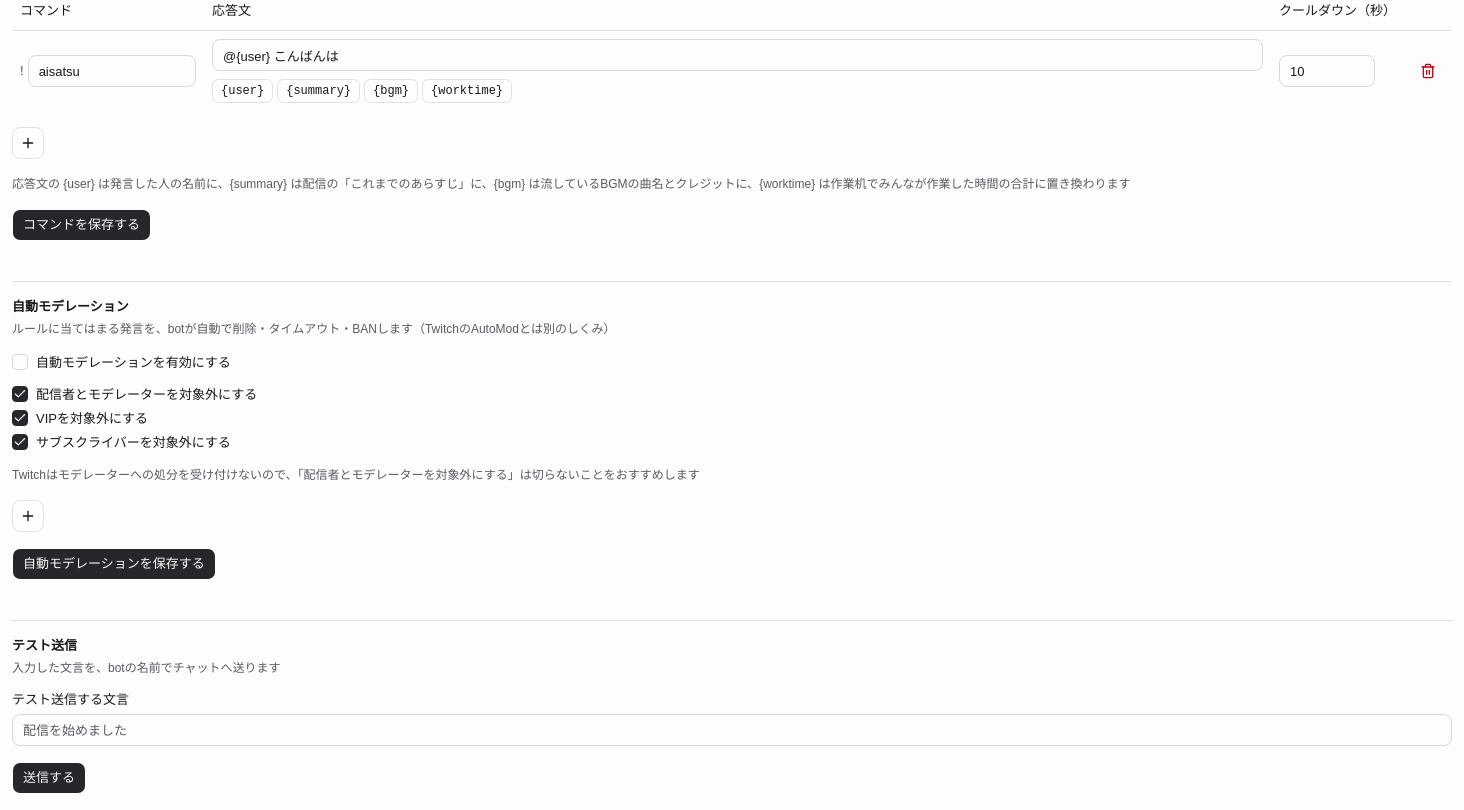
Test: テスト送信 › 本文が空なら、Workerへ送らずに入力を促す
The image size is (1464, 810).
(page scrolled)
Click the button "送信する" at [49, 778], box [12,762,86,794]
(page scrolled)
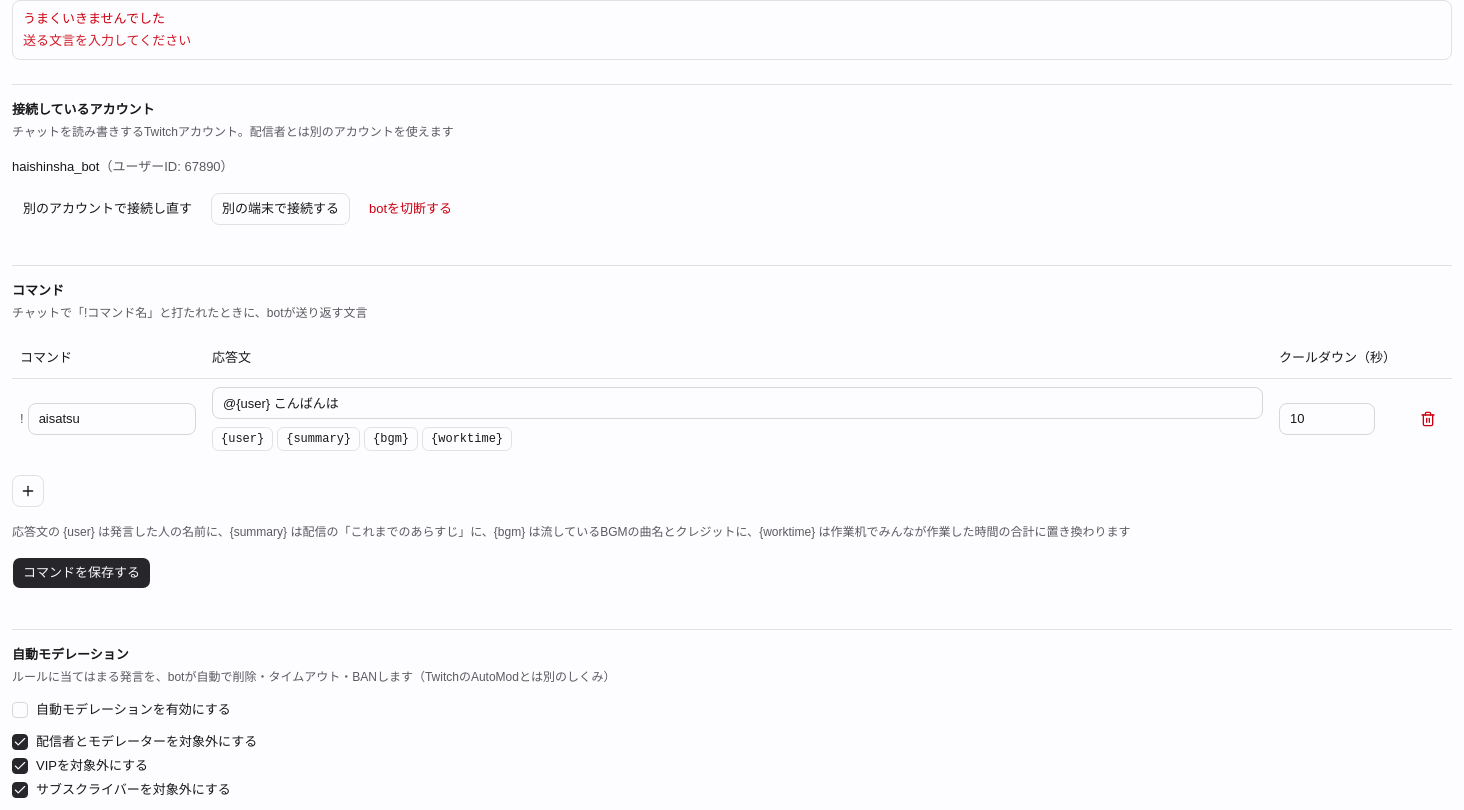
Expected: the text "送る文言を入力してください" is shown, [23,33,191,48]
